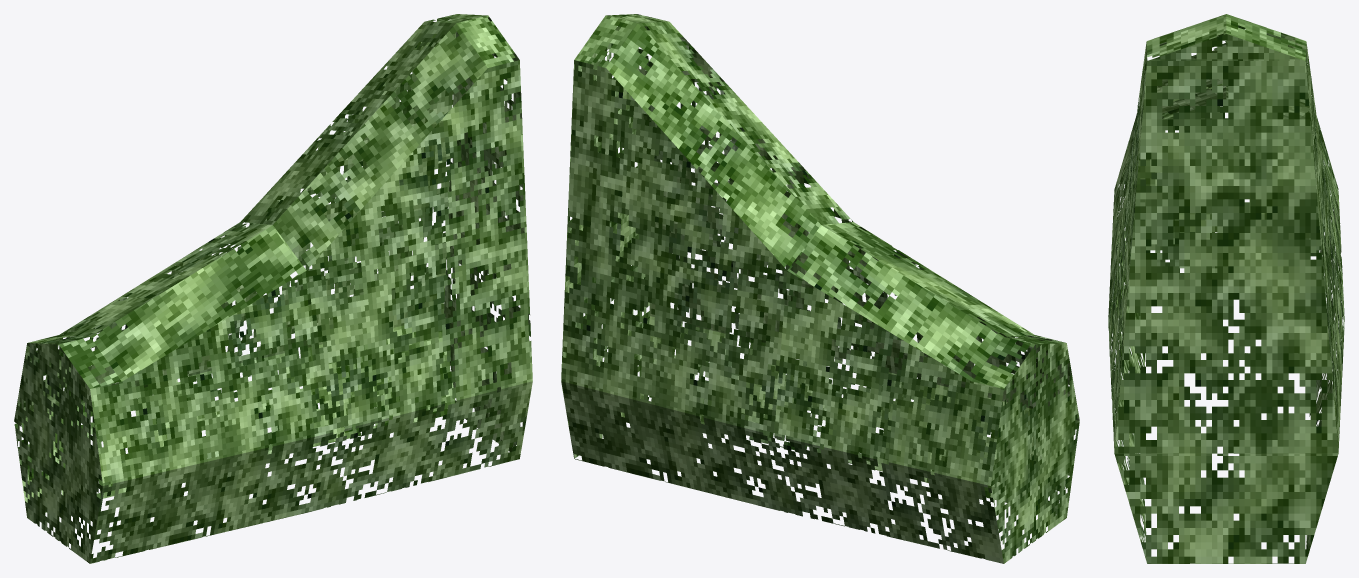
File: bush_connector_ornamental_summer.glb
3 renders of one model, left to right at view 1: azimuth 30°, elevation 25°; view 2: azimuth 150°, elevation 25°; view 3: azimuth 270°, elevation 25°, orthographic. The views are drawn at different scales.
Parts seen in each view (by area): view 1: bush_connector_ornamental_summer; view 2: bush_connector_ornamental_summer; view 3: bush_connector_ornamental_summer.
Part boxes in pixels (box(x1,y1,x2,y2)): bush_connector_ornamental_summer: box(14, 14, 532, 563); bush_connector_ornamental_summer: box(561, 14, 1079, 563); bush_connector_ornamental_summer: box(1108, 14, 1344, 563).
Size of the model in its own units: 2.01 by 1.88 by 0.7592.
Materials: 1 (1 with a texture image).
